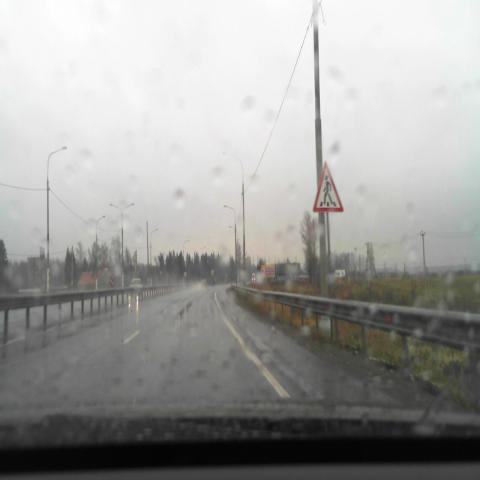1_22: (313, 162, 344, 213)
